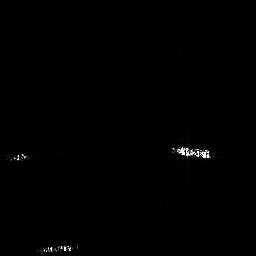ship: (167, 141, 216, 161), (36, 241, 78, 256)
